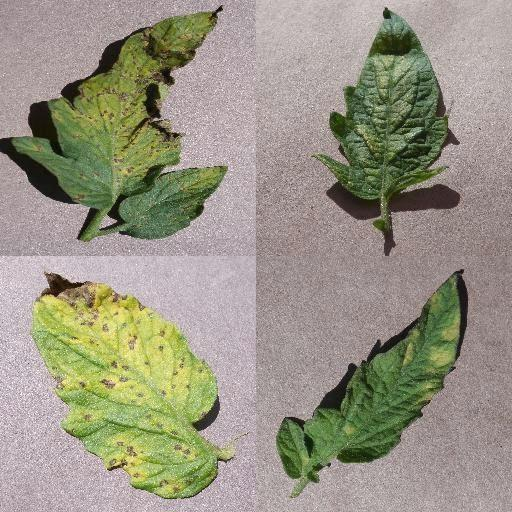Leaf Mold: (276, 271, 462, 479)
Septoria: (11, 5, 229, 209), (34, 272, 220, 498)
Spider Mites: (311, 8, 451, 198)
